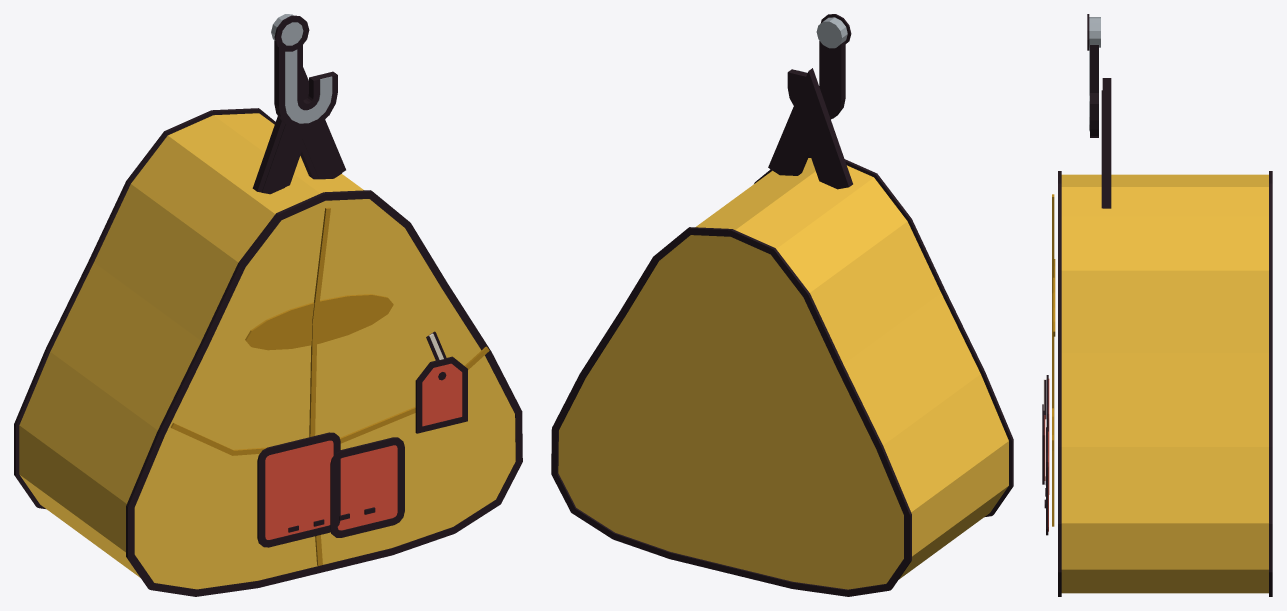
3 views of the same model, side by side, from view 1: azimuth 30°, elevation 25°; view 2: azimuth 150°, elevation 25°; view 3: azimuth 270°, elevation 25° (orthographic). The views are drawn at different scales.
Parts seen in each view (by area): view 1: Bag Holders proposal; view 2: Bag Holders proposal; view 3: Bag Holders proposal.
Part boxes in pixels (left/top/right/bottom): Bag Holders proposal: left=14, top=14, right=522, bottom=596; Bag Holders proposal: left=551, top=14, right=1013, bottom=596; Bag Holders proposal: left=1042, top=14, right=1272, bottom=596.
Bounding box in the file's own units: 0.7737 × 1.03 × 0.4149.
